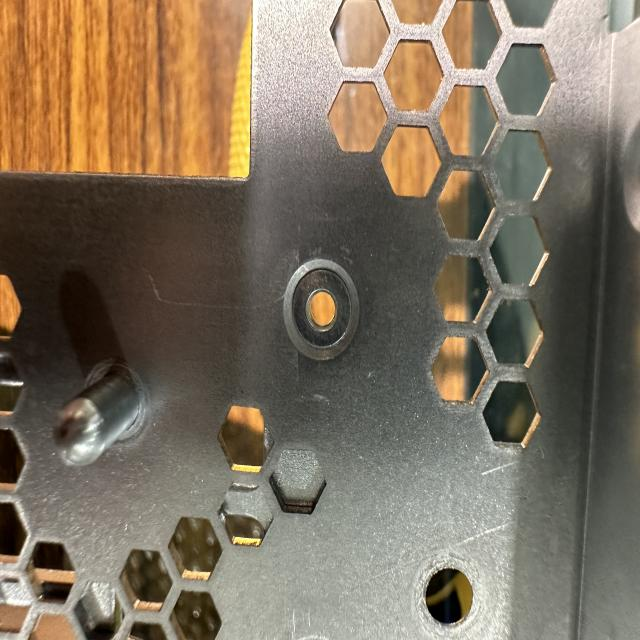Missing screw: (273, 242, 370, 376)
